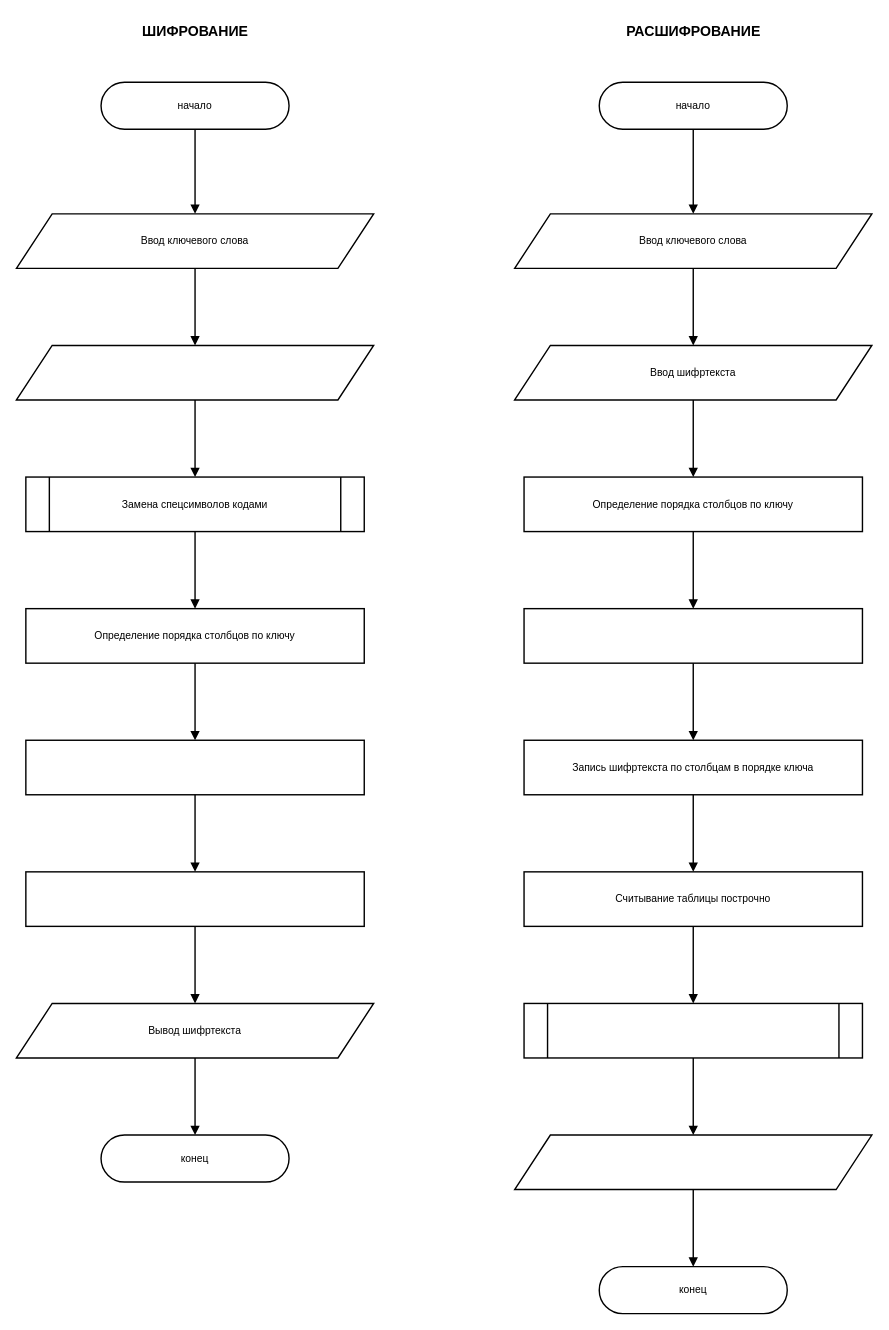
Some shapes in this 889 by 1330 pixel diagram are drawn without their labels. The shapes that lost their labels are listed below. From the top down, each one's box as (x1, y1, x2, y2) in pixels, then its label:
(15, 344, 374, 400): Ввод текста
(523, 608, 863, 663): Подсчёт длинных и коротких столбцов
(25, 739, 365, 795): Запись текста построчно в таблицу
(25, 871, 365, 927): Считывание столбцов в порядке ключа
(523, 1002, 863, 1058): Восстановление спецсимволов
(514, 1134, 872, 1190): Вывод открытого текста
